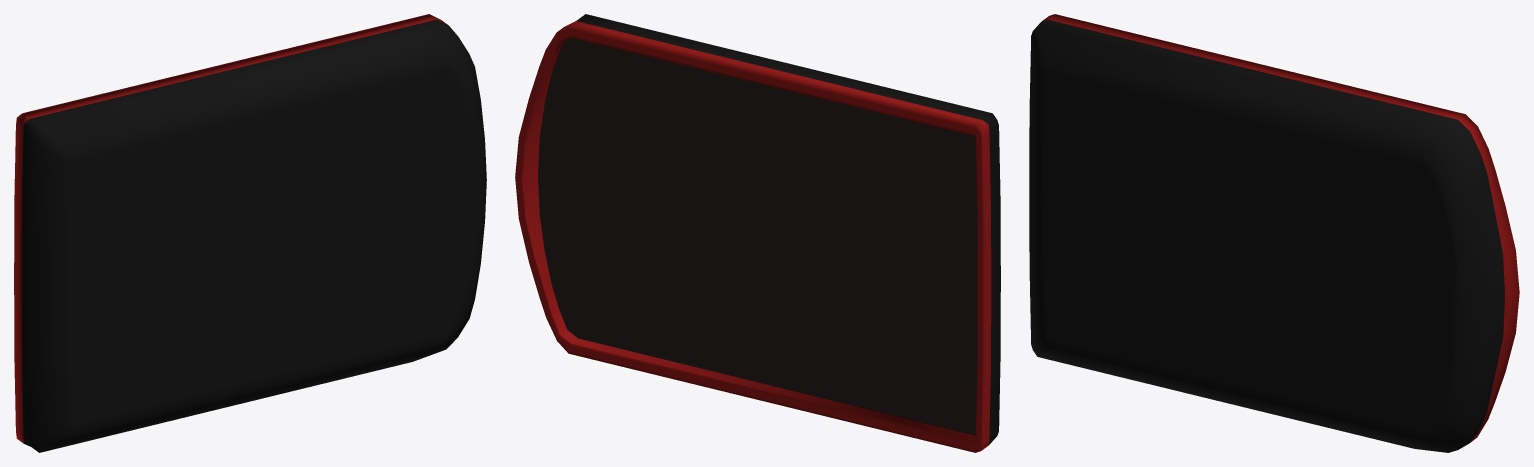
Rendered from Ship 3x8.fbx.
The picture shows the model from 3 angles, left to right: view 1: azimuth 30°, elevation 25°; view 2: azimuth 150°, elevation 25°; view 3: azimuth 330°, elevation 25°; orthographic projection.
Visible parts, largest first — view 1: Ship 3*8; view 2: Ship 3*8; view 3: Ship 3*8.
Part boxes in pixels (box(x1,y1,x2,y2)): Ship 3*8: box(14, 14, 486, 452); Ship 3*8: box(515, 14, 1000, 452); Ship 3*8: box(1029, 14, 1519, 452).
Bounding box in the file's own units: 1335 × 144 × 890.
